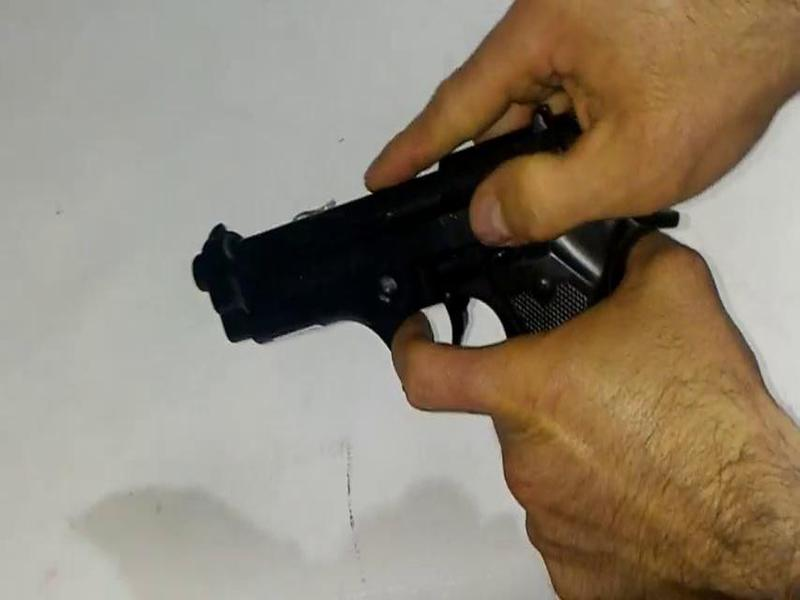Pistola: (147, 87, 699, 459)
